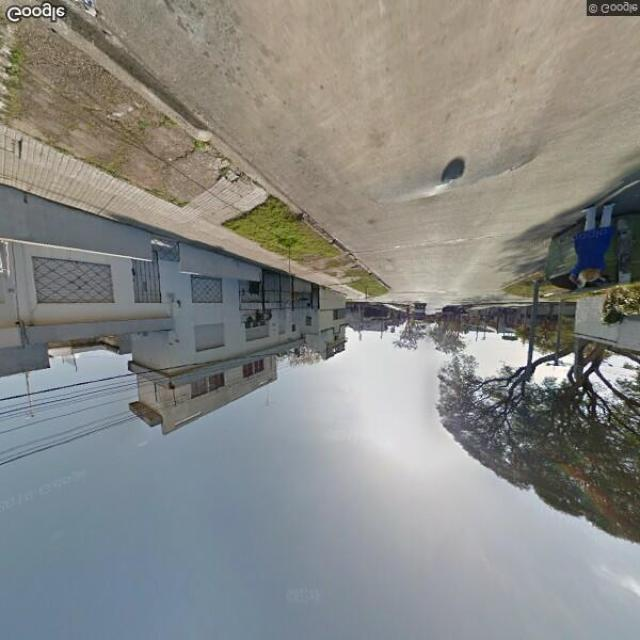garbage container: (537, 192, 640, 307)
